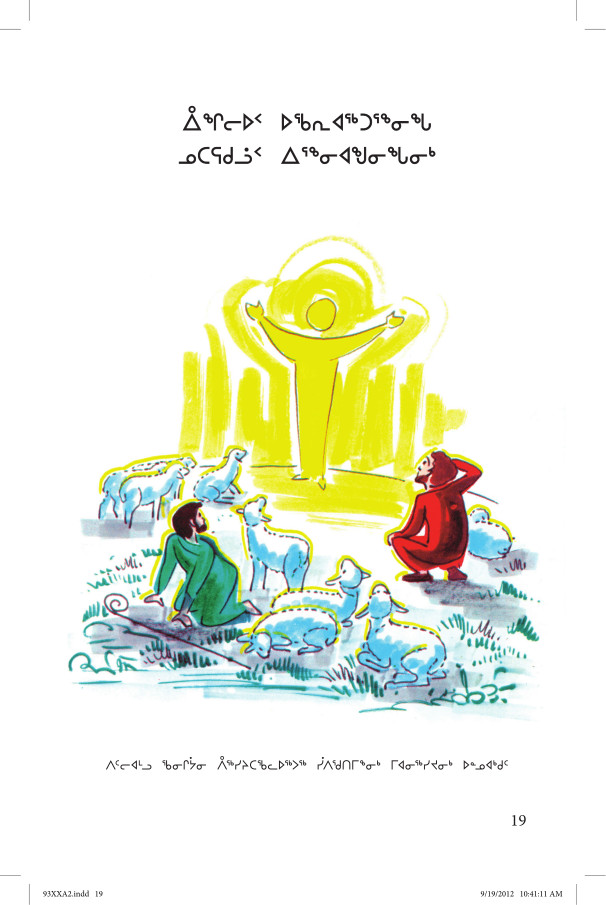inuktitut: (169, 94, 442, 174), (96, 752, 514, 777)
